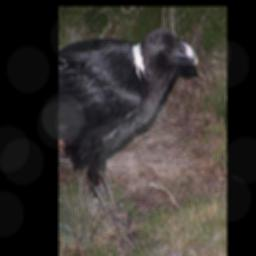Crow: (59, 27, 198, 252)
